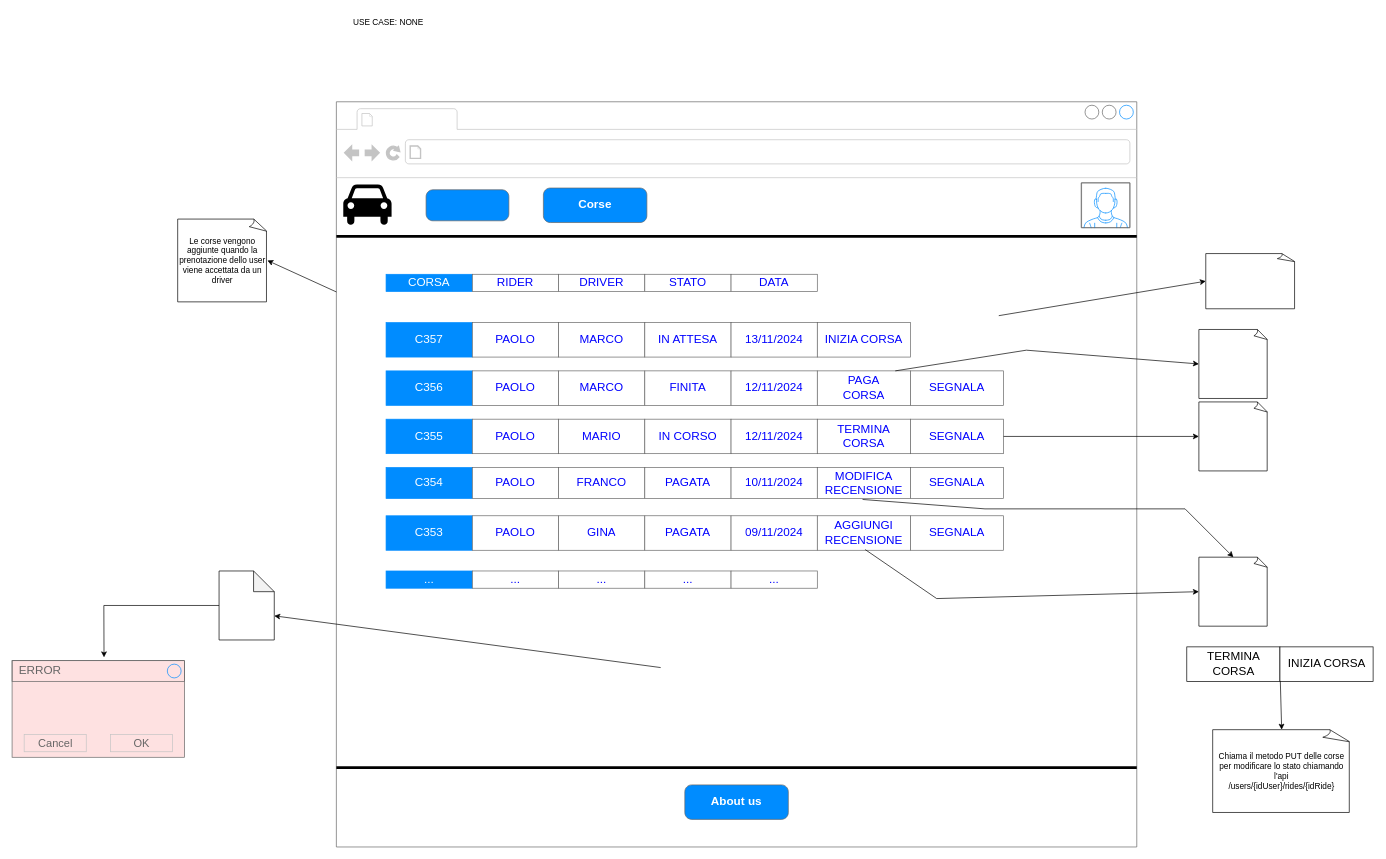
This 1386x859 diagram has some shape labels left out. Each missing label, with the centre of its shape:
"Home" belongs at pixel 467 205.
"https://www.mypersonaldriver.it/users/{idUser}/rides" belongs at pixel 512 151.
"In caso di eventuali errori" belongs at pixel 246 605.
"Manda alla pagina del pagamento" belongs at pixel 1233 363.
"Manda alla pagina delle recensioni" belongs at pixel 1233 591.
"Manda alla pagina delle segnalazioni" belongs at pixel 1233 436.
"Page 1" belongs at pixel 415 118.
"Richiesta di tipo GET delle corse chiamando l'api users/{idUser}/rides" belongs at pixel 1250 281.
"Spiegazione errore" belongs at pixel 98 708.
